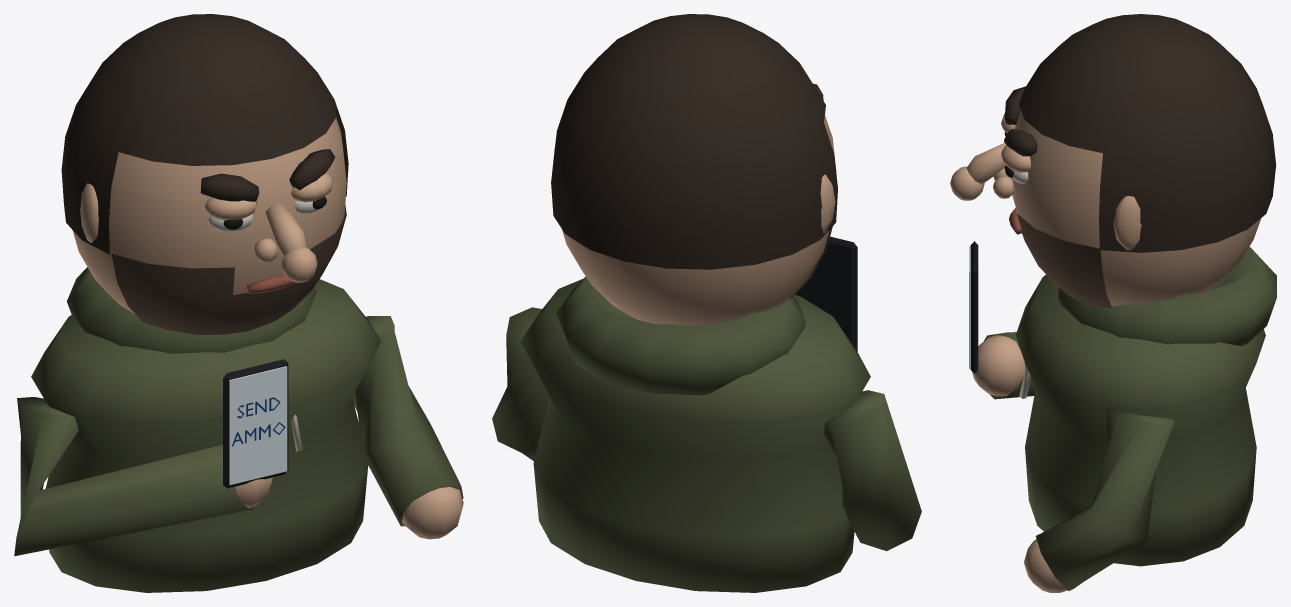
The picture shows the model from 3 angles, left to right: view 1: azimuth 30°, elevation 25°; view 2: azimuth 150°, elevation 25°; view 3: azimuth 270°, elevation 25°; orthographic projection. The views are drawn at different scales.
Visible parts, largest first — view 1: fig_body, fig_head; view 2: fig_body, fig_head; view 3: fig_body, fig_head.
Part boxes in pixels (x1,y1,x2,y2): fig_body: [14, 267, 463, 592]; fig_head: [61, 14, 348, 334]; fig_body: [492, 236, 921, 592]; fig_head: [551, 14, 837, 325]; fig_body: [969, 241, 1276, 592]; fig_head: [950, 14, 1276, 308].
Size of the model in its own units: 0.8395 by 0.9964 by 0.6094.
